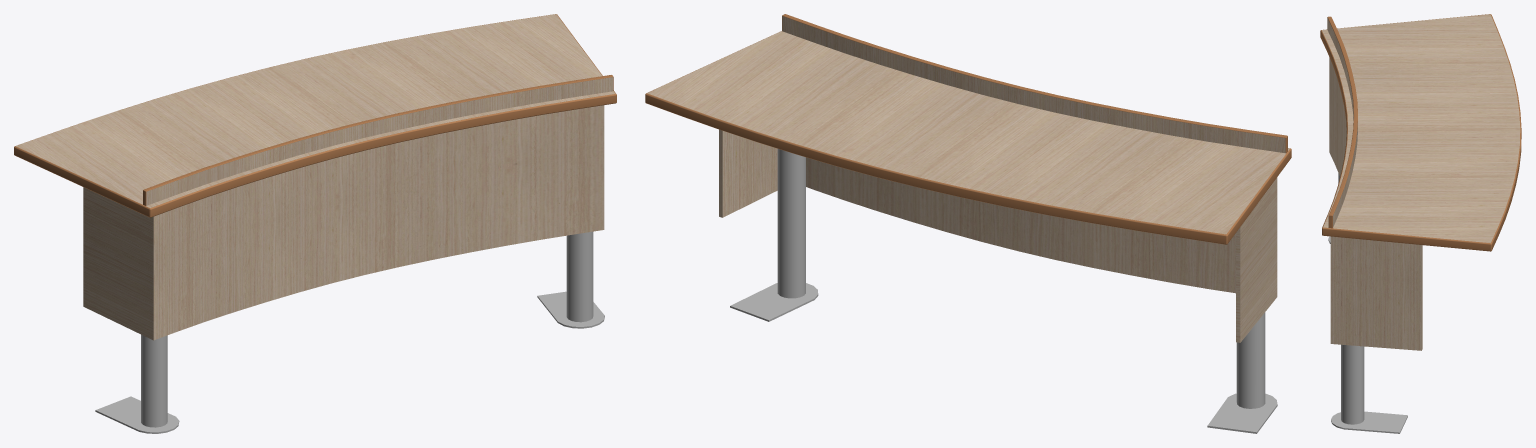
Rendered from SideTableA.fbx.
3 views of the same model, side by side, from view 1: azimuth 30°, elevation 25°; view 2: azimuth 150°, elevation 25°; view 3: azimuth 270°, elevation 25° (orthographic). The views are drawn at different scales.
Visible parts, largest first — view 1: SideTableA; view 2: SideTableA; view 3: SideTableA.
Part boxes in pixels (left/top/right/bottom): SideTableA: left=14, top=14, right=616, bottom=433; SideTableA: left=645, top=14, right=1291, bottom=433; SideTableA: left=1320, top=14, right=1521, bottom=433.
Size of the model in its own units: 197 by 85.44 by 72.66.
3 materials, 1 textured.
